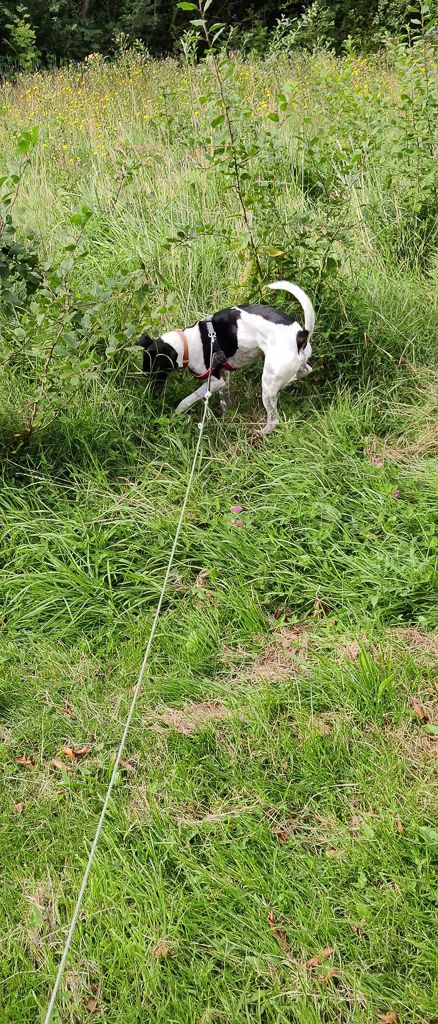Dog: (112, 269, 339, 445)
